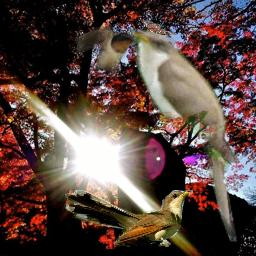Cuckoo: (122, 23, 241, 245), (65, 190, 193, 247), (141, 19, 177, 36)
Swallow: (75, 25, 136, 74)
